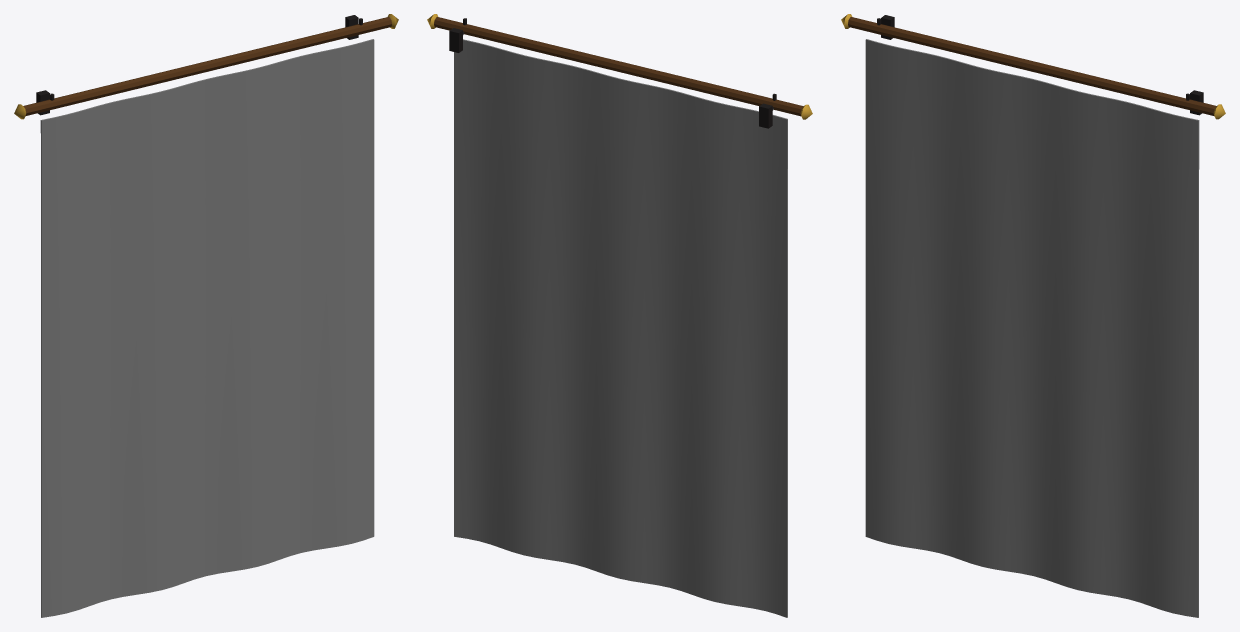
File: wandteppich.glb
3 views of the same model, side by side, from view 1: azimuth 30°, elevation 25°; view 2: azimuth 150°, elevation 25°; view 3: azimuth 330°, elevation 25° (orthographic).
Parts seen in each view (by area): view 1: wandteppich; view 2: wandteppich; view 3: wandteppich.
Part boxes in pixels (bbox=[...]): wandteppich: bbox=[14, 14, 398, 617]; wandteppich: bbox=[427, 14, 812, 617]; wandteppich: bbox=[841, 14, 1225, 617].
Bounding box in the file's own units: 1.62 × 2.09 × 0.11.
